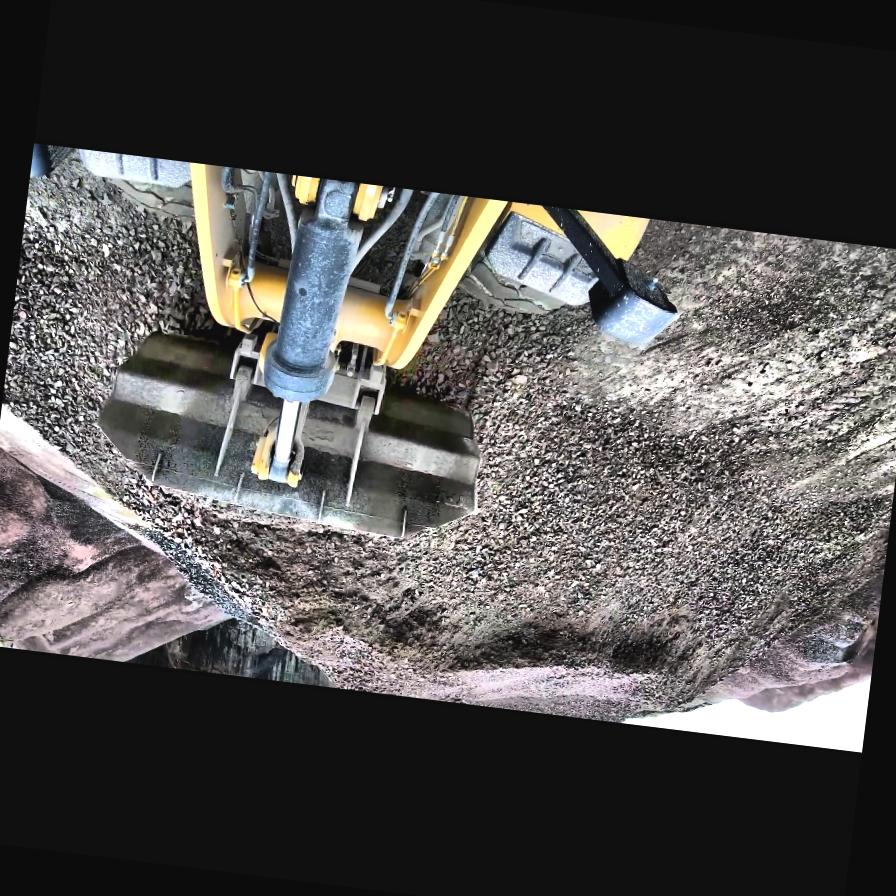anchor: (248, 414, 308, 489)
pile of gravel: (0, 196, 896, 752), (0, 388, 262, 675)
